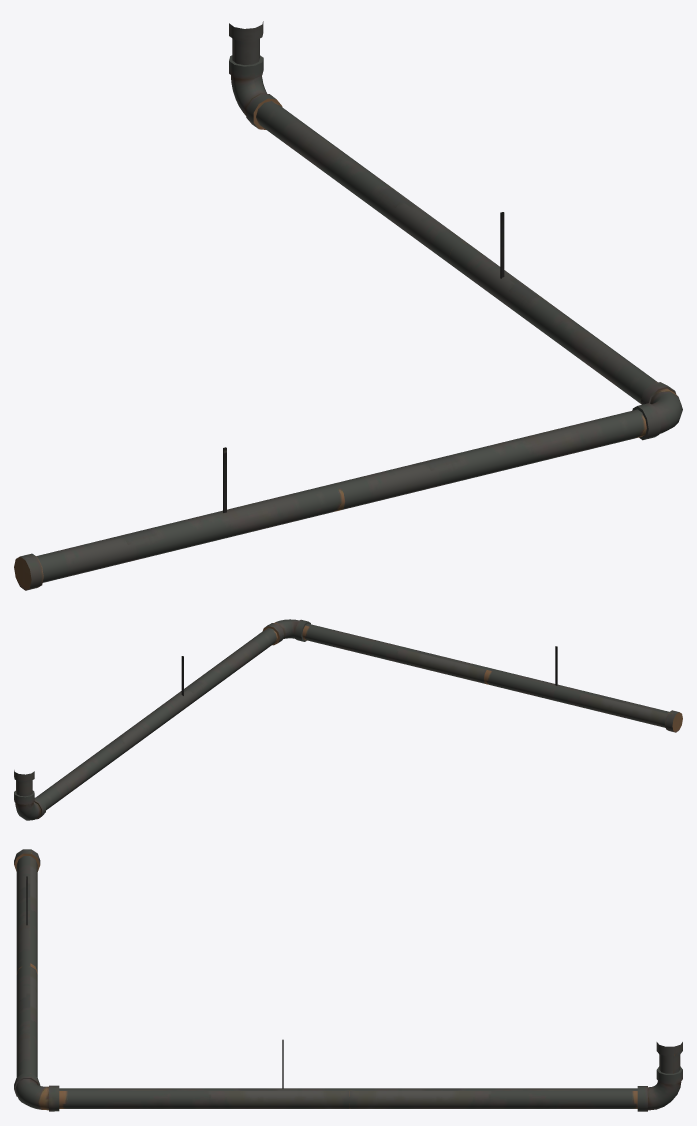
3 views of the same model, one above another, from view 1: azimuth 30°, elevation 25°; view 2: azimuth 150°, elevation 25°; view 3: azimuth 270°, elevation 25° (orthographic). The views are drawn at different scales.
Visible parts, largest first — view 1: body0_model0_lod0_mesh0; view 2: body0_model0_lod0_mesh0; view 3: body0_model0_lod0_mesh0.
Part boxes in pixels (<box>): body0_model0_lod0_mesh0: <box>14,21,682,590</box>; body0_model0_lod0_mesh0: <box>14,619,682,820</box>; body0_model0_lod0_mesh0: <box>14,849,682,1111</box>.
Bounding box in the file's own units: 110 × 14.56 × 127.
1 material, 1 textured.
